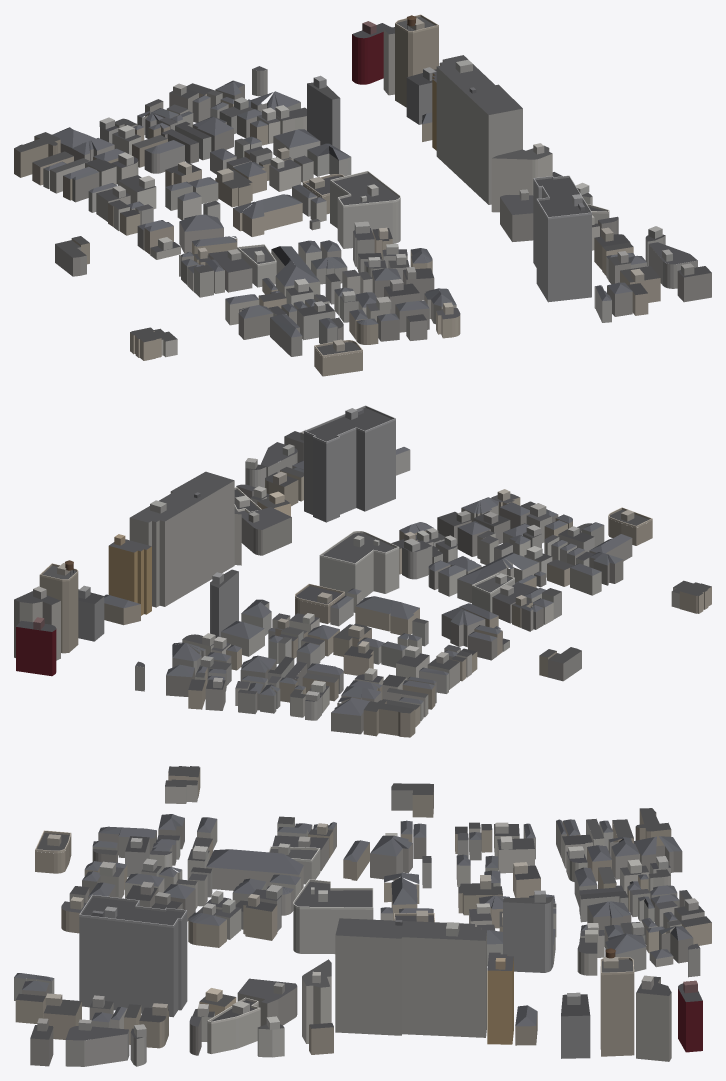
Rendered from -5_8.bld.glb.
3 renders of one model, top to bottom at view 1: azimuth 30°, elevation 25°; view 2: azimuth 150°, elevation 25°; view 3: azimuth 270°, elevation 25°, orthographic. The views are drawn at different scales.
Parts seen in each view (by area): view 1: -5_8; view 2: -5_8; view 3: -5_8.
Part boxes in pixels (x1,y1,x2,y2): -5_8: (14, 14, 711, 376); -5_8: (14, 405, 711, 737); -5_8: (14, 766, 711, 1066).
Bounding box in the file's own units: 243 × 47.54 × 268.
